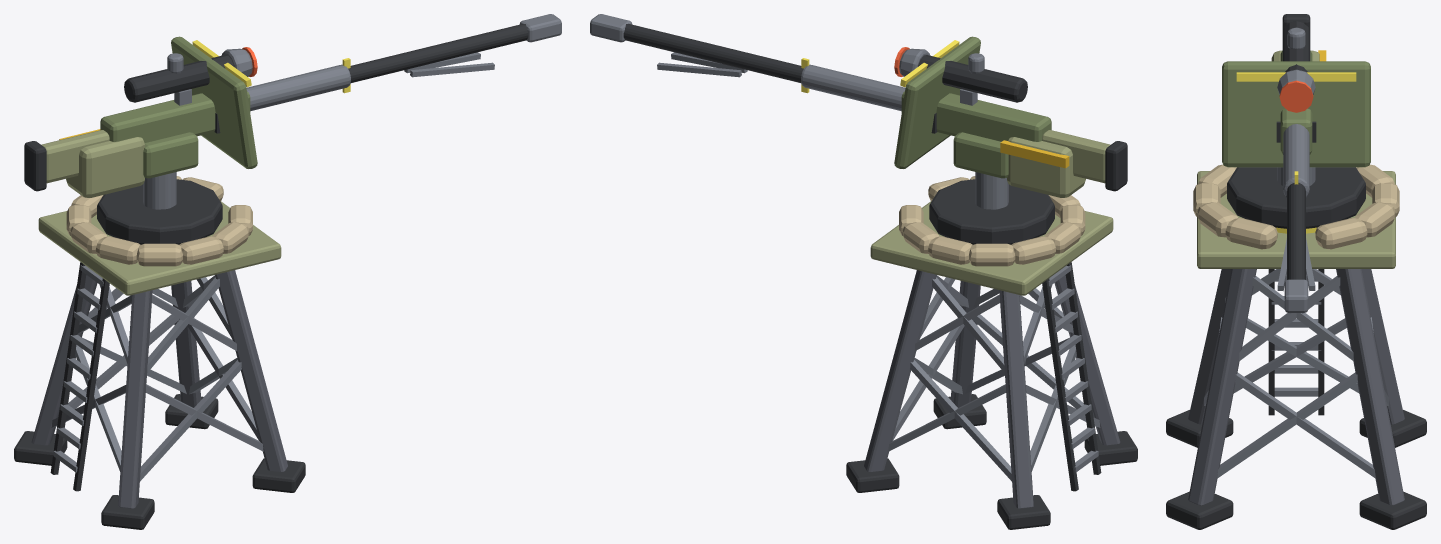
Rendered from torreta_francotirador.fbx.
3 renders of one model, left to right at view 1: azimuth 30°, elevation 25°; view 2: azimuth 150°, elevation 25°; view 3: azimuth 270°, elevation 25°, orthographic. The views are drawn at different scales.
Parts seen in each view (by area): view 1: Base, Barrel, Pivot; view 2: Base, Barrel, Pivot; view 3: Base, Pivot, Barrel.
Boxes of the visible parts, x1,y1,x2,y2 form: Base: (14,176,305,529); Barrel: (24,14,561,191); Pivot: (59,36,257,244); Base: (846,176,1137,529); Barrel: (590,14,1127,191); Pivot: (894,36,1085,244); Base: (1166,164,1426,529); Pivot: (1222,50,1370,228); Barrel: (1277,14,1315,312).
Bounding box in the file's own units: 544 × 404 × 210.
Materials: 1 (1 with a texture image).
